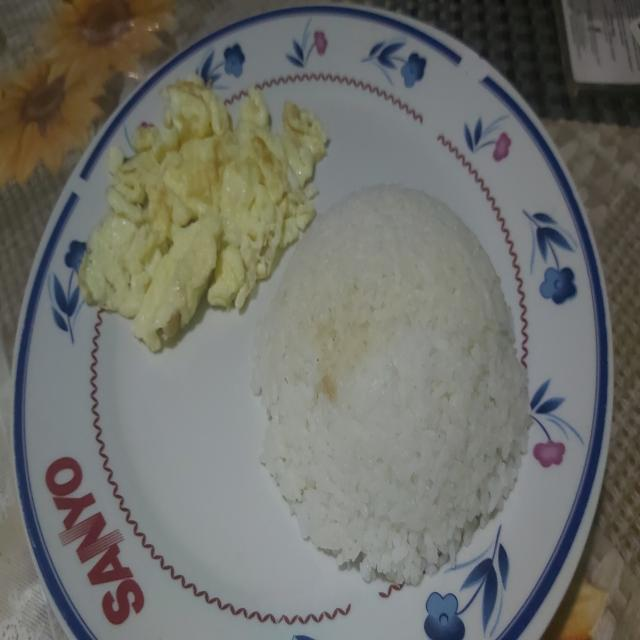Chicken -Chicken Inasal-: (264, 186, 532, 562)
